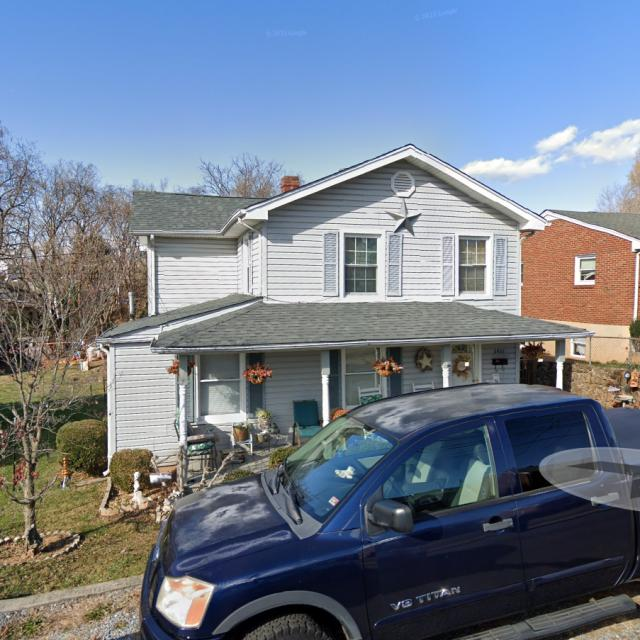House: (96, 142, 594, 482), (521, 207, 640, 362)
